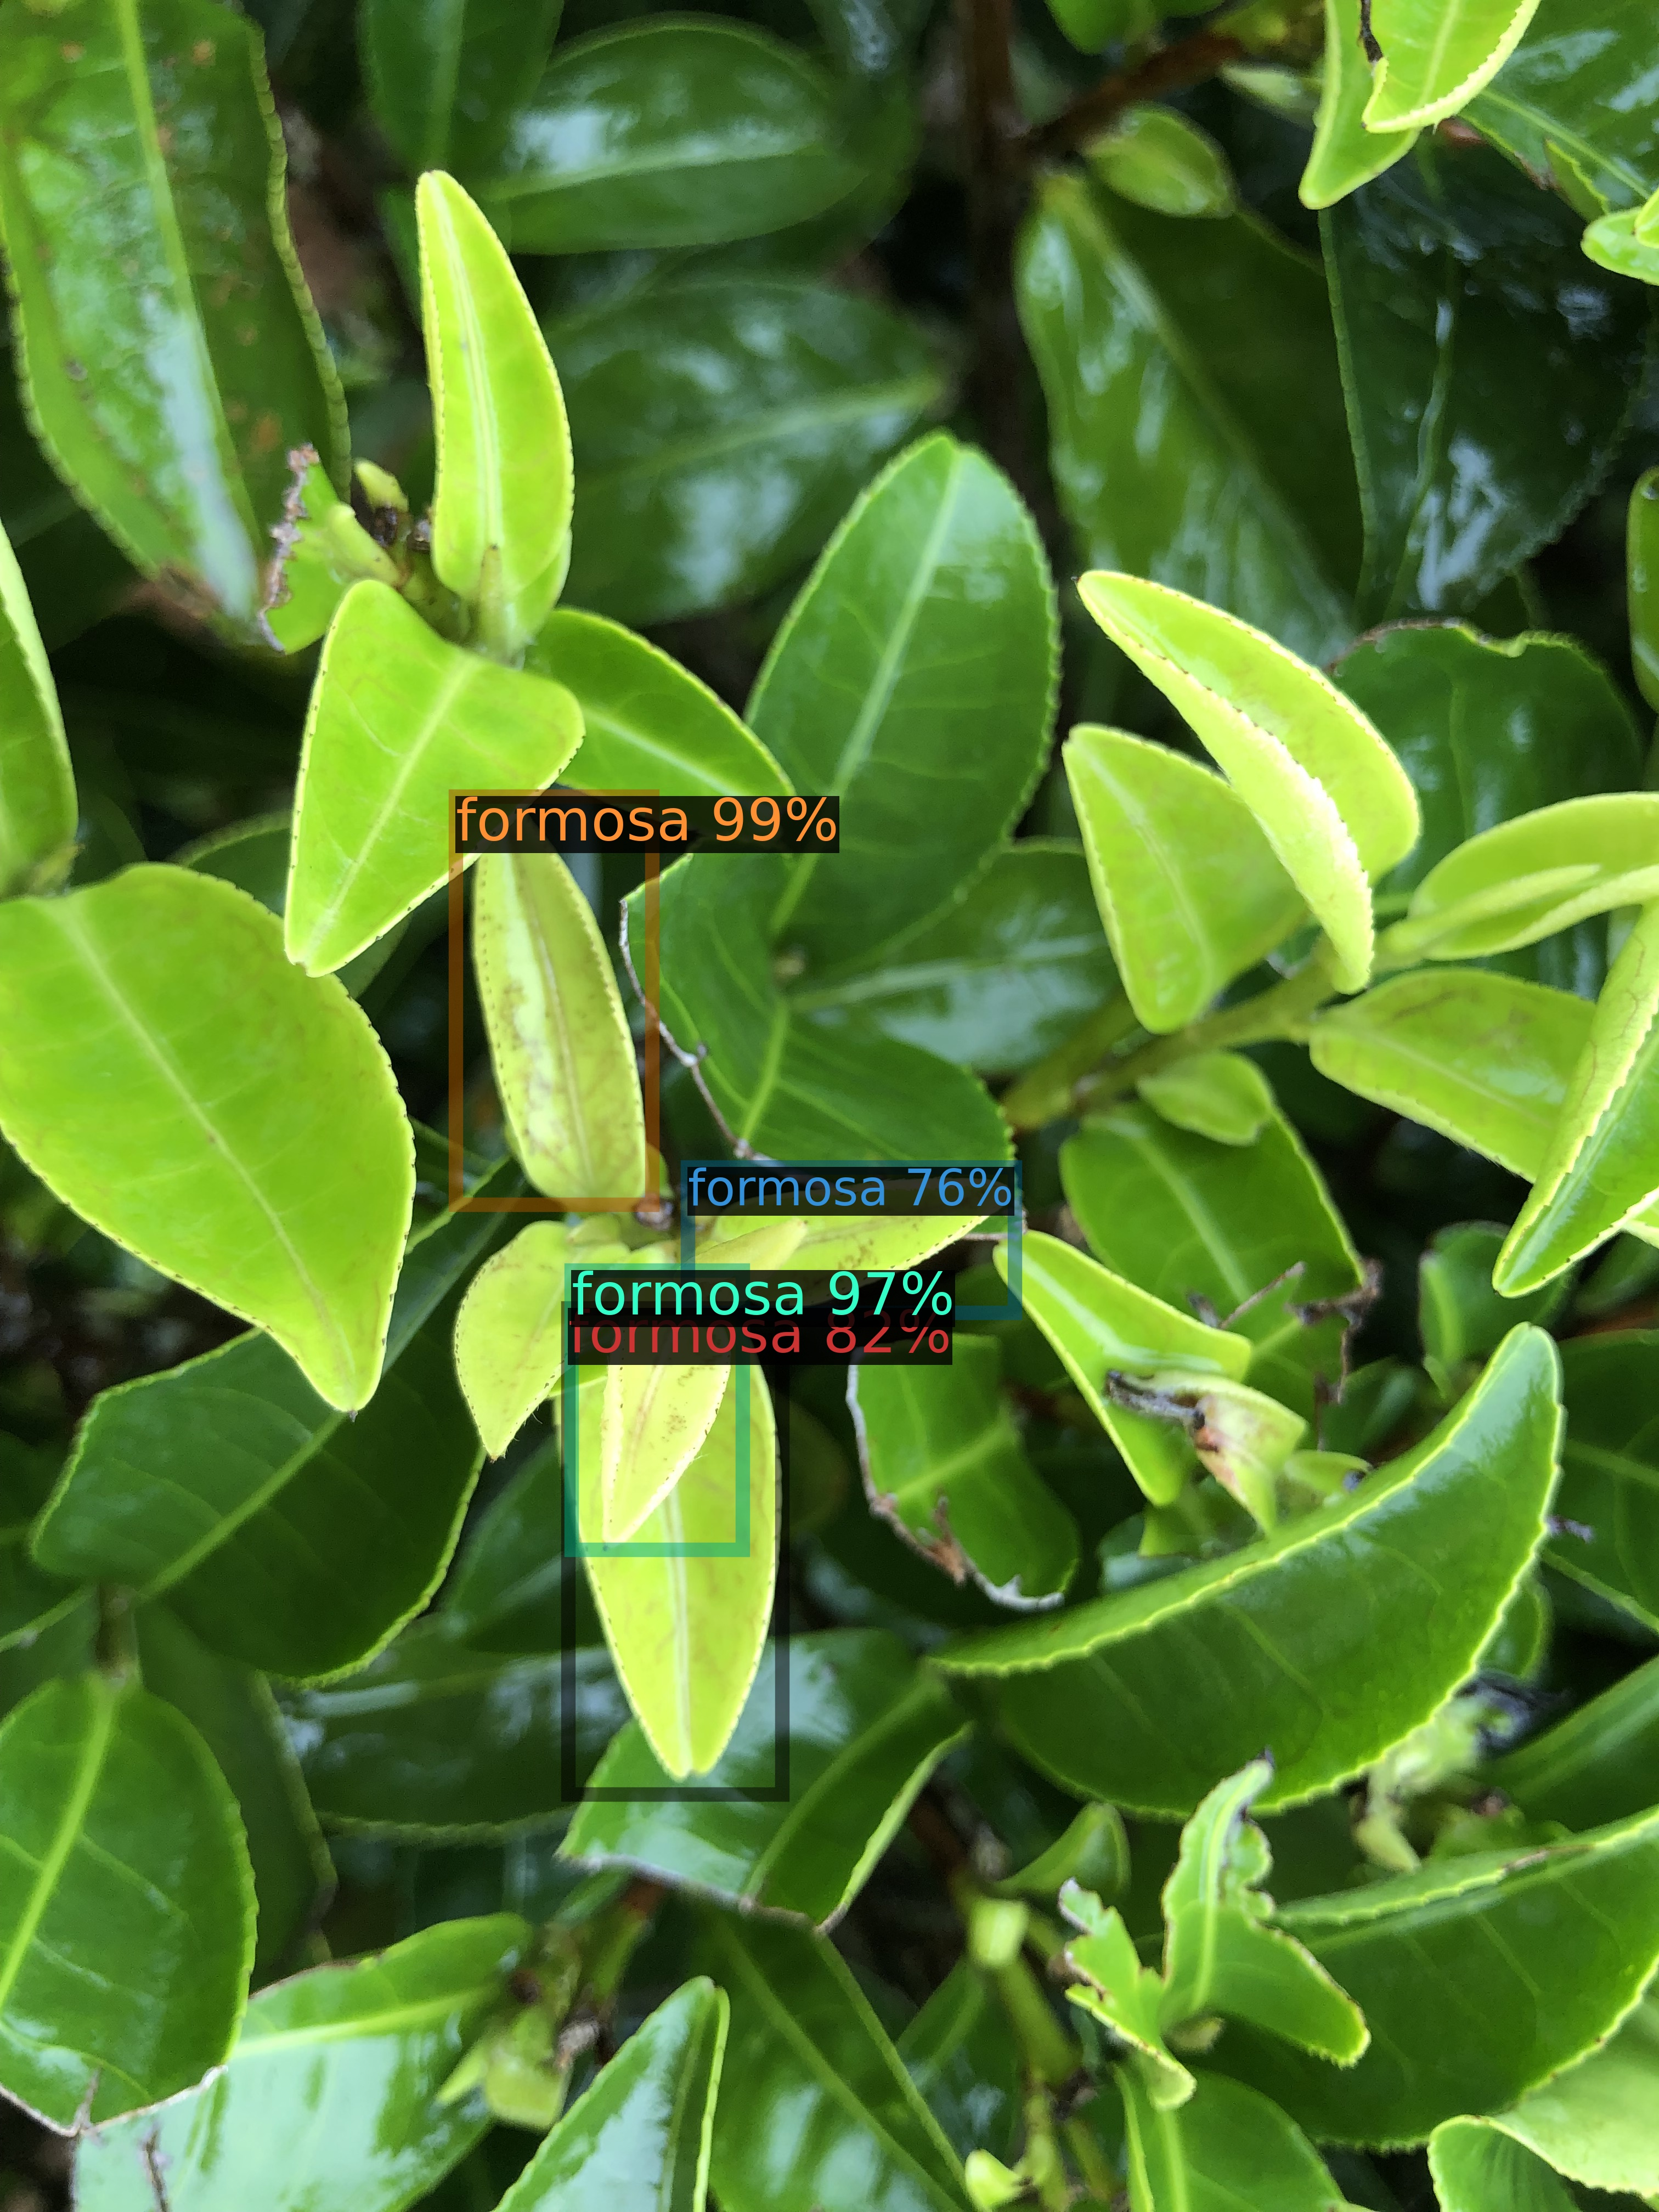formosa: (568, 1308, 782, 1794), (455, 796, 652, 1205), (572, 1270, 742, 1550), (688, 1167, 1014, 1313)
